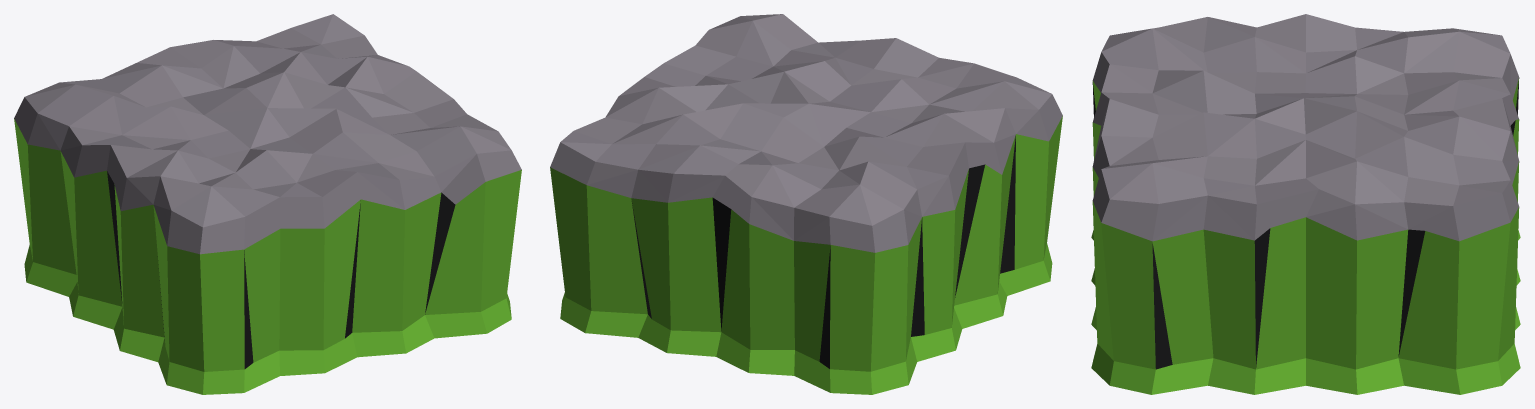
File: flax_field.fbx
3 views of the same model, side by side, from view 1: azimuth 30°, elevation 25°; view 2: azimuth 150°, elevation 25°; view 3: azimuth 270°, elevation 25° (orthographic). The views are drawn at different scales.
Visible parts, largest first — view 1: flax_field; view 2: flax_field; view 3: flax_field.
Part boxes in pixels (<box>): flax_field: <box>14,14,521,394</box>; flax_field: <box>550,14,1062,394</box>; flax_field: <box>1091,14,1520,394</box>.
Bounding box in the file's own units: 111 × 59.78 × 109.
